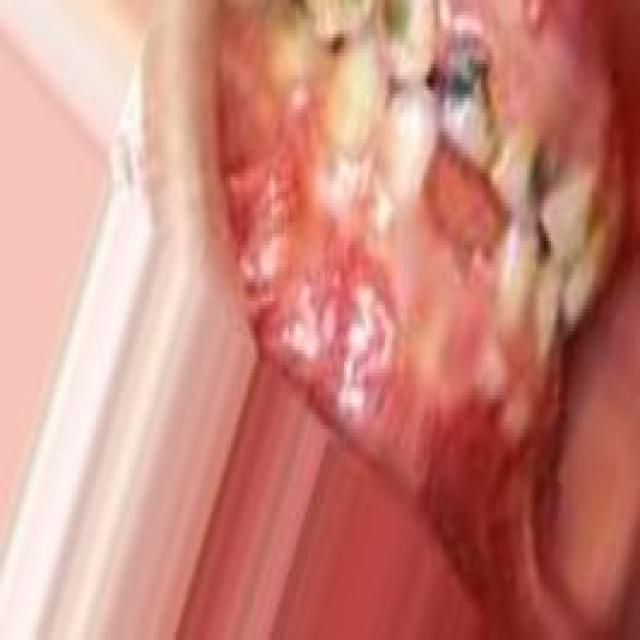caries: (434, 22, 506, 175), (494, 107, 563, 232), (372, 0, 439, 86)
